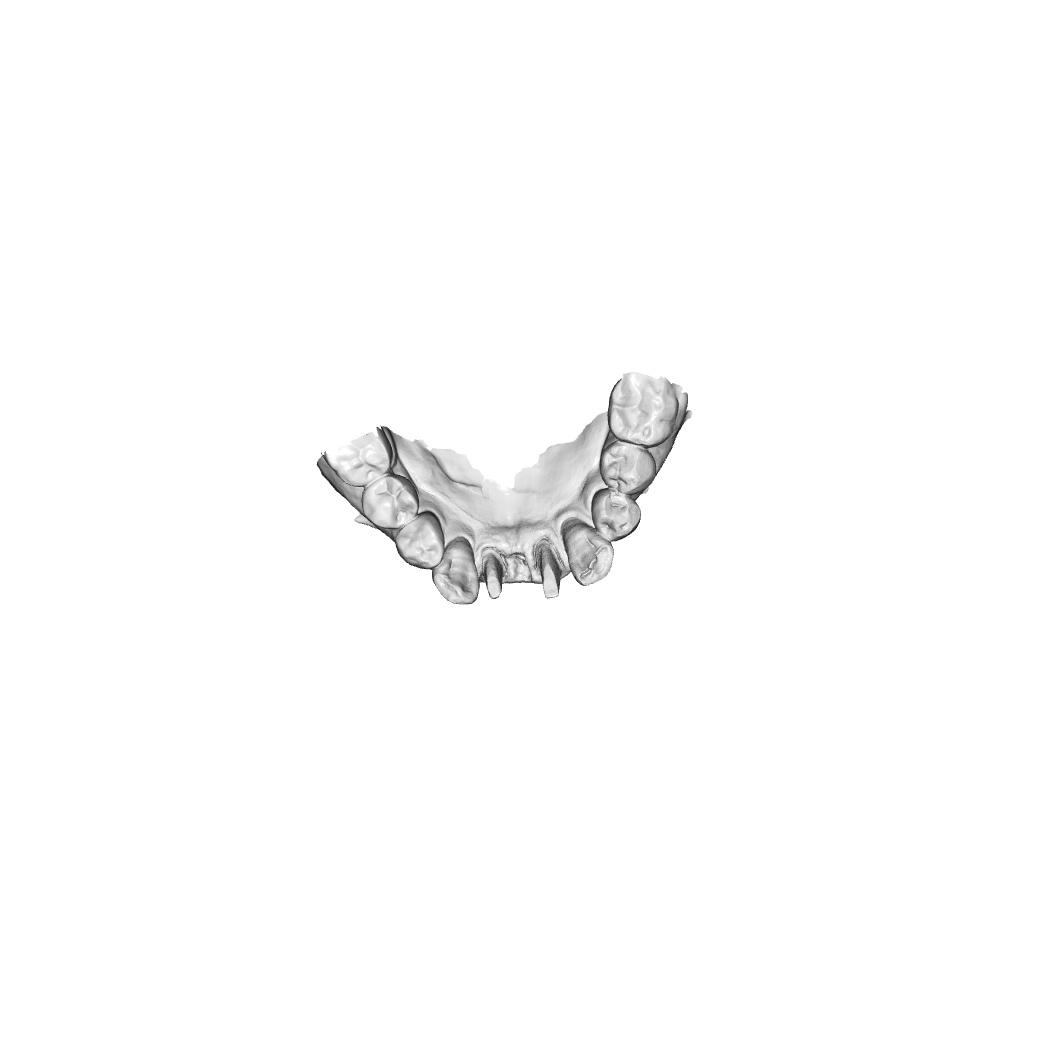canine: (560, 516, 616, 587), (431, 538, 480, 607)
crown: (529, 538, 563, 601), (481, 550, 506, 600)
molar: (606, 370, 680, 449), (321, 425, 394, 488)
premolar: (361, 473, 420, 530), (599, 439, 657, 496), (393, 509, 446, 570), (591, 488, 642, 543)
